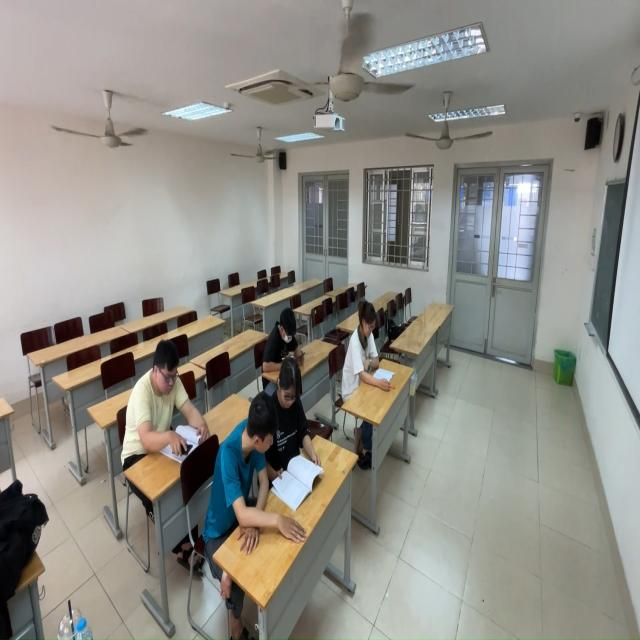read: (119, 338, 212, 473), (209, 393, 283, 548), (270, 355, 323, 487), (345, 300, 388, 402), (264, 306, 306, 368)
